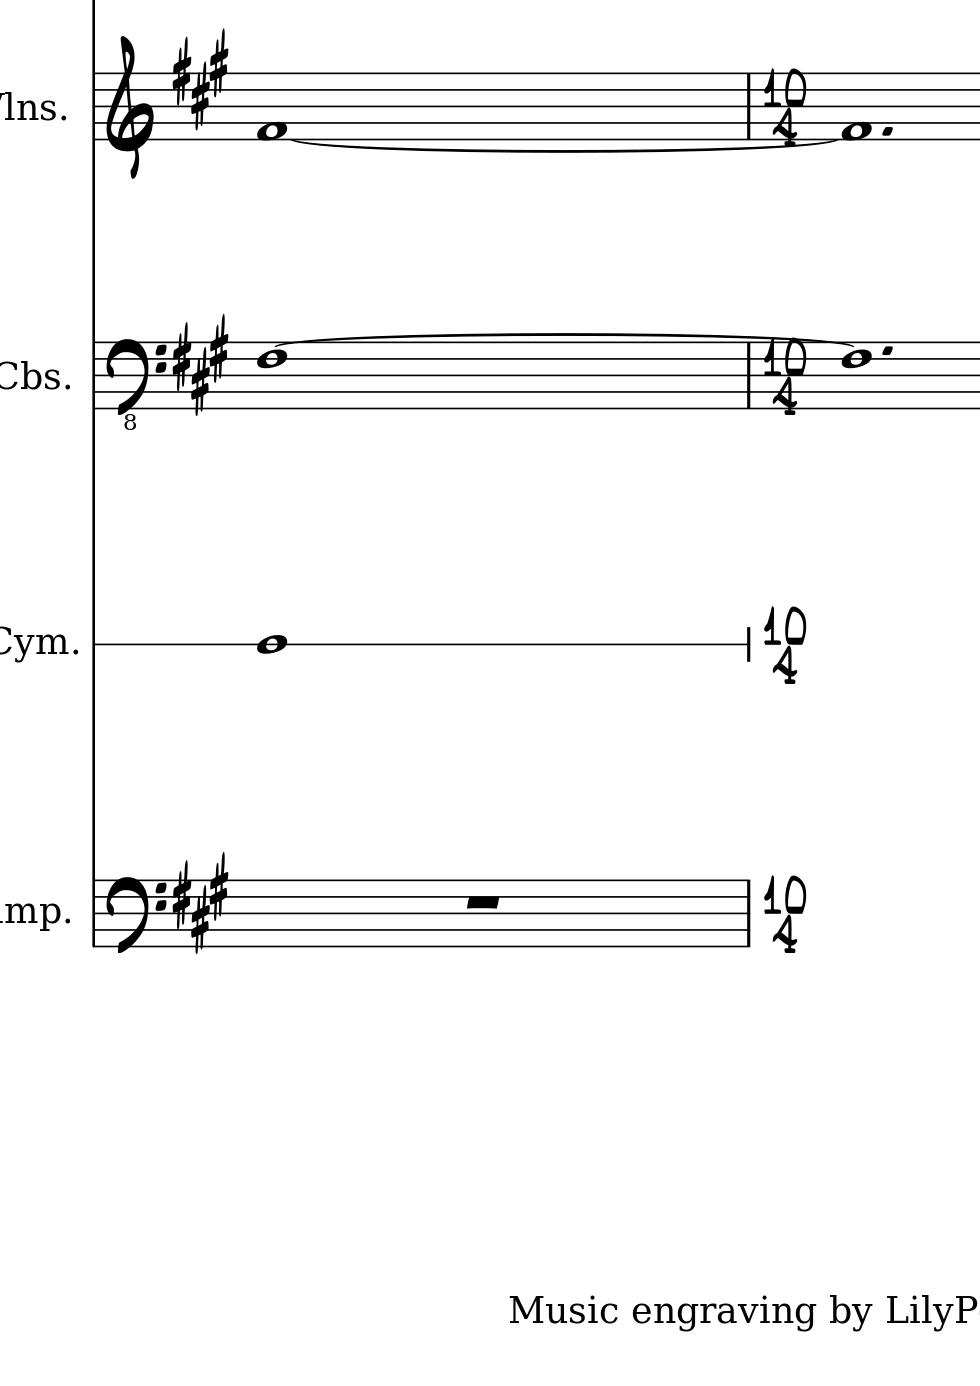0: (780, 603, 806, 646), (778, 337, 807, 376), (781, 873, 806, 914), (781, 67, 807, 106)
1: (762, 604, 785, 648), (762, 875, 782, 914), (762, 67, 781, 107), (762, 339, 781, 375)
1_1: (253, 70, 288, 145), (840, 70, 874, 144)
1_6: (253, 341, 288, 413), (839, 340, 872, 413)
4: (768, 106, 802, 144), (769, 376, 803, 415), (770, 645, 801, 686), (771, 915, 800, 955)
A_S: (167, 315, 234, 418), (170, 29, 229, 130), (171, 848, 227, 954)
Cbs: (1, 355, 63, 392)
Fclef: (103, 873, 168, 957)
Gclef: (103, 33, 157, 180)
Lower_Fclef: (104, 333, 167, 432)
Rests1: (461, 891, 504, 913)
Single_barline: (86, 343, 101, 409), (740, 880, 755, 947), (86, 73, 100, 142), (87, 880, 101, 946)
TimeSig: (763, 67, 806, 146), (765, 874, 807, 954), (763, 337, 805, 417), (766, 600, 808, 680)
dot: (878, 123, 895, 139), (880, 344, 894, 358)
